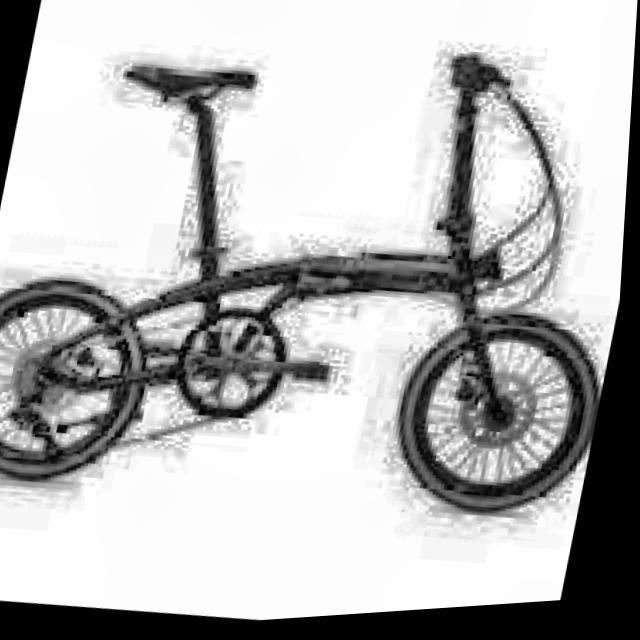bike: (0, 0, 639, 566)
